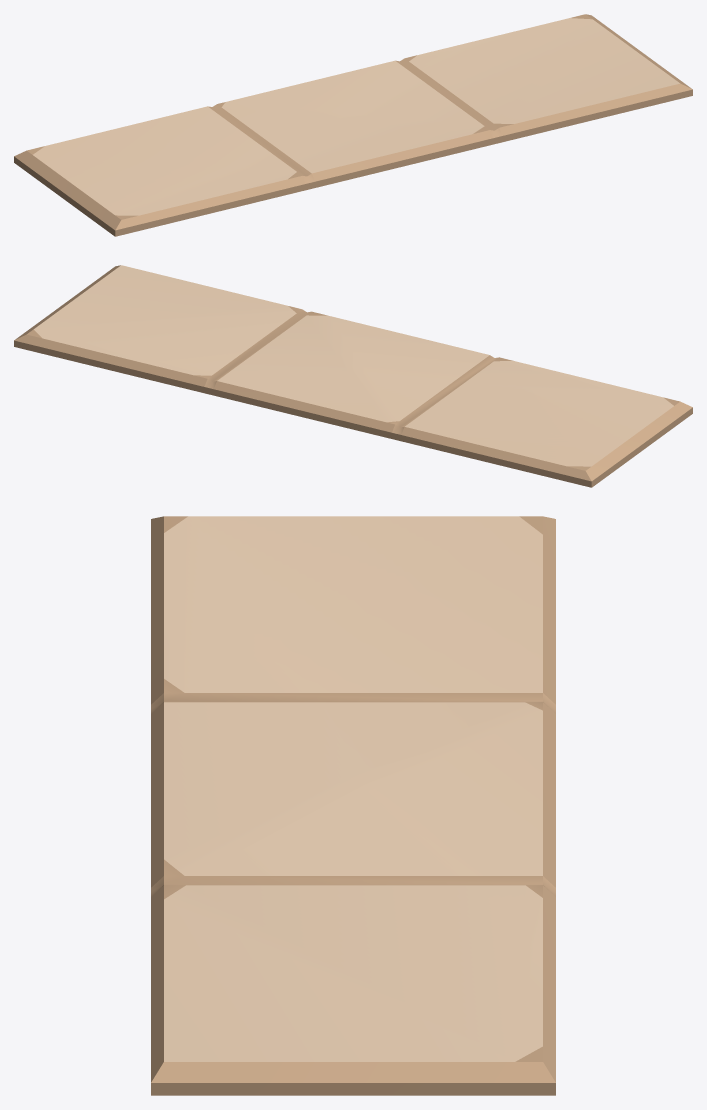
Rendered from Sidewalk.fbx.
The picture shows the model from 3 angles, top to bottom: view 1: azimuth 30°, elevation 25°; view 2: azimuth 150°, elevation 25°; view 3: azimuth 270°, elevation 25°; orthographic projection. The views are drawn at different scales.
Visible parts, largest first — view 1: Sidewalk; view 2: Sidewalk; view 3: Sidewalk.
Part boxes in pixels (<box>): Sidewalk: <box>14,14,692,236</box>; Sidewalk: <box>14,265,692,487</box>; Sidewalk: <box>151,516,555,1095</box>.
Bounding box in the file's own units: 201 × 4.07 × 60.97.
